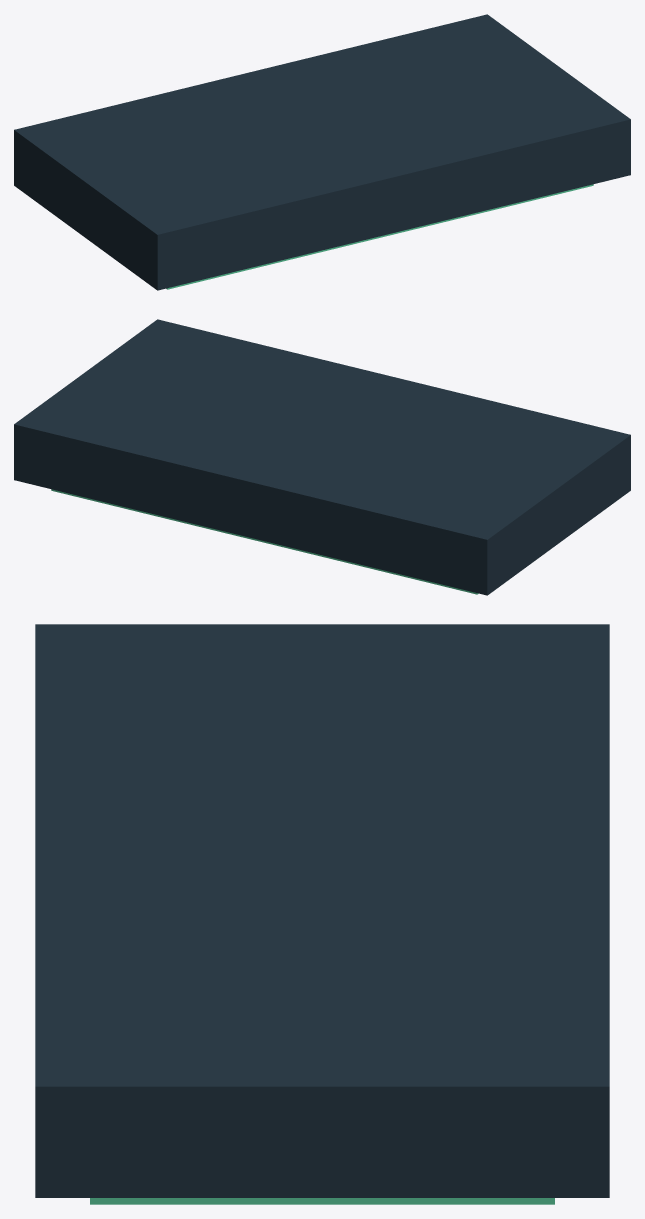
Rendered from MotionReady_Tank_Display.obj.
3 views of the same model, one above another, from view 1: azimuth 30°, elevation 25°; view 2: azimuth 150°, elevation 25°; view 3: azimuth 270°, elevation 25° (orthographic). The views are drawn at different scales.
Visible parts, largest first — view 1: Tank_LCD_Bezel, Tank_LCD_Screen; view 2: Tank_LCD_Bezel, Tank_LCD_Screen; view 3: Tank_LCD_Bezel, Tank_LCD_Screen.
Boxes of the visible parts, box(x1,y1,x2,y2) form: Tank_LCD_Bezel: box(14, 14, 630, 290); Tank_LCD_Screen: box(166, 184, 593, 289); Tank_LCD_Bezel: box(14, 319, 630, 595); Tank_LCD_Screen: box(51, 489, 478, 594); Tank_LCD_Bezel: box(35, 624, 609, 1197); Tank_LCD_Screen: box(90, 1198, 554, 1204).
Size of the model in its own units: 400 by 69 by 210.
